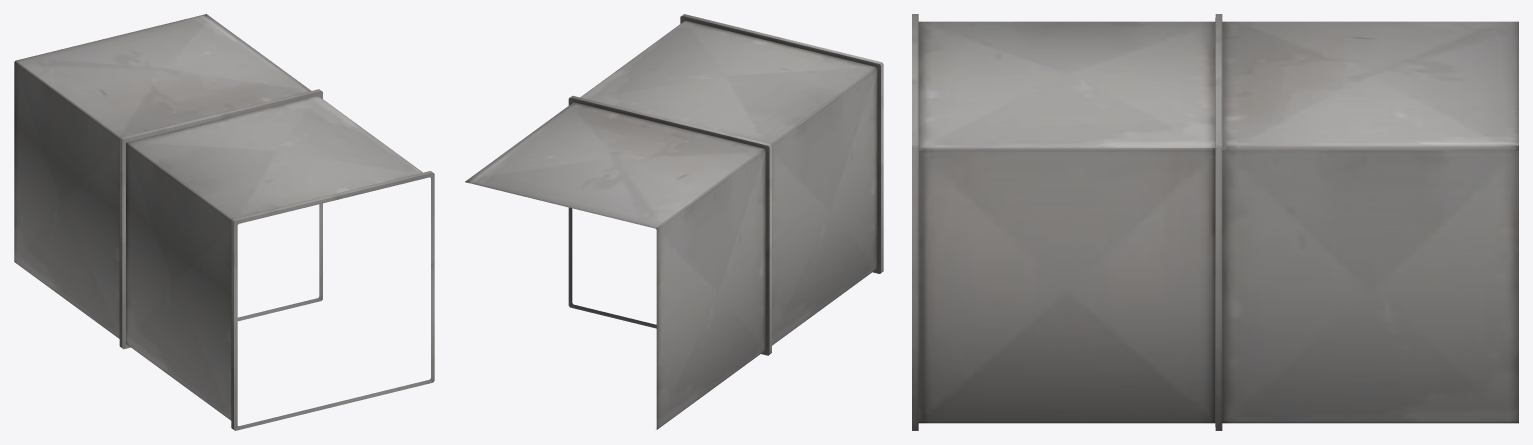
The picture shows the model from 3 angles, left to right: view 1: azimuth 30°, elevation 25°; view 2: azimuth 150°, elevation 25°; view 3: azimuth 270°, elevation 25°; orthographic projection. The views are drawn at different scales.
Parts seen in each view (by area): view 1: body0_model0_lod0_mesh0; view 2: body0_model0_lod0_mesh0; view 3: body0_model0_lod0_mesh0.
Part boxes in pixels (bbox=[...]): body0_model0_lod0_mesh0: bbox=[14, 14, 434, 430]; body0_model0_lod0_mesh0: bbox=[465, 14, 883, 429]; body0_model0_lod0_mesh0: bbox=[912, 14, 1518, 430].
Bounding box in the file's own units: 69.01 × 69.01 × 128.
Materials: 1 (1 with a texture image).
